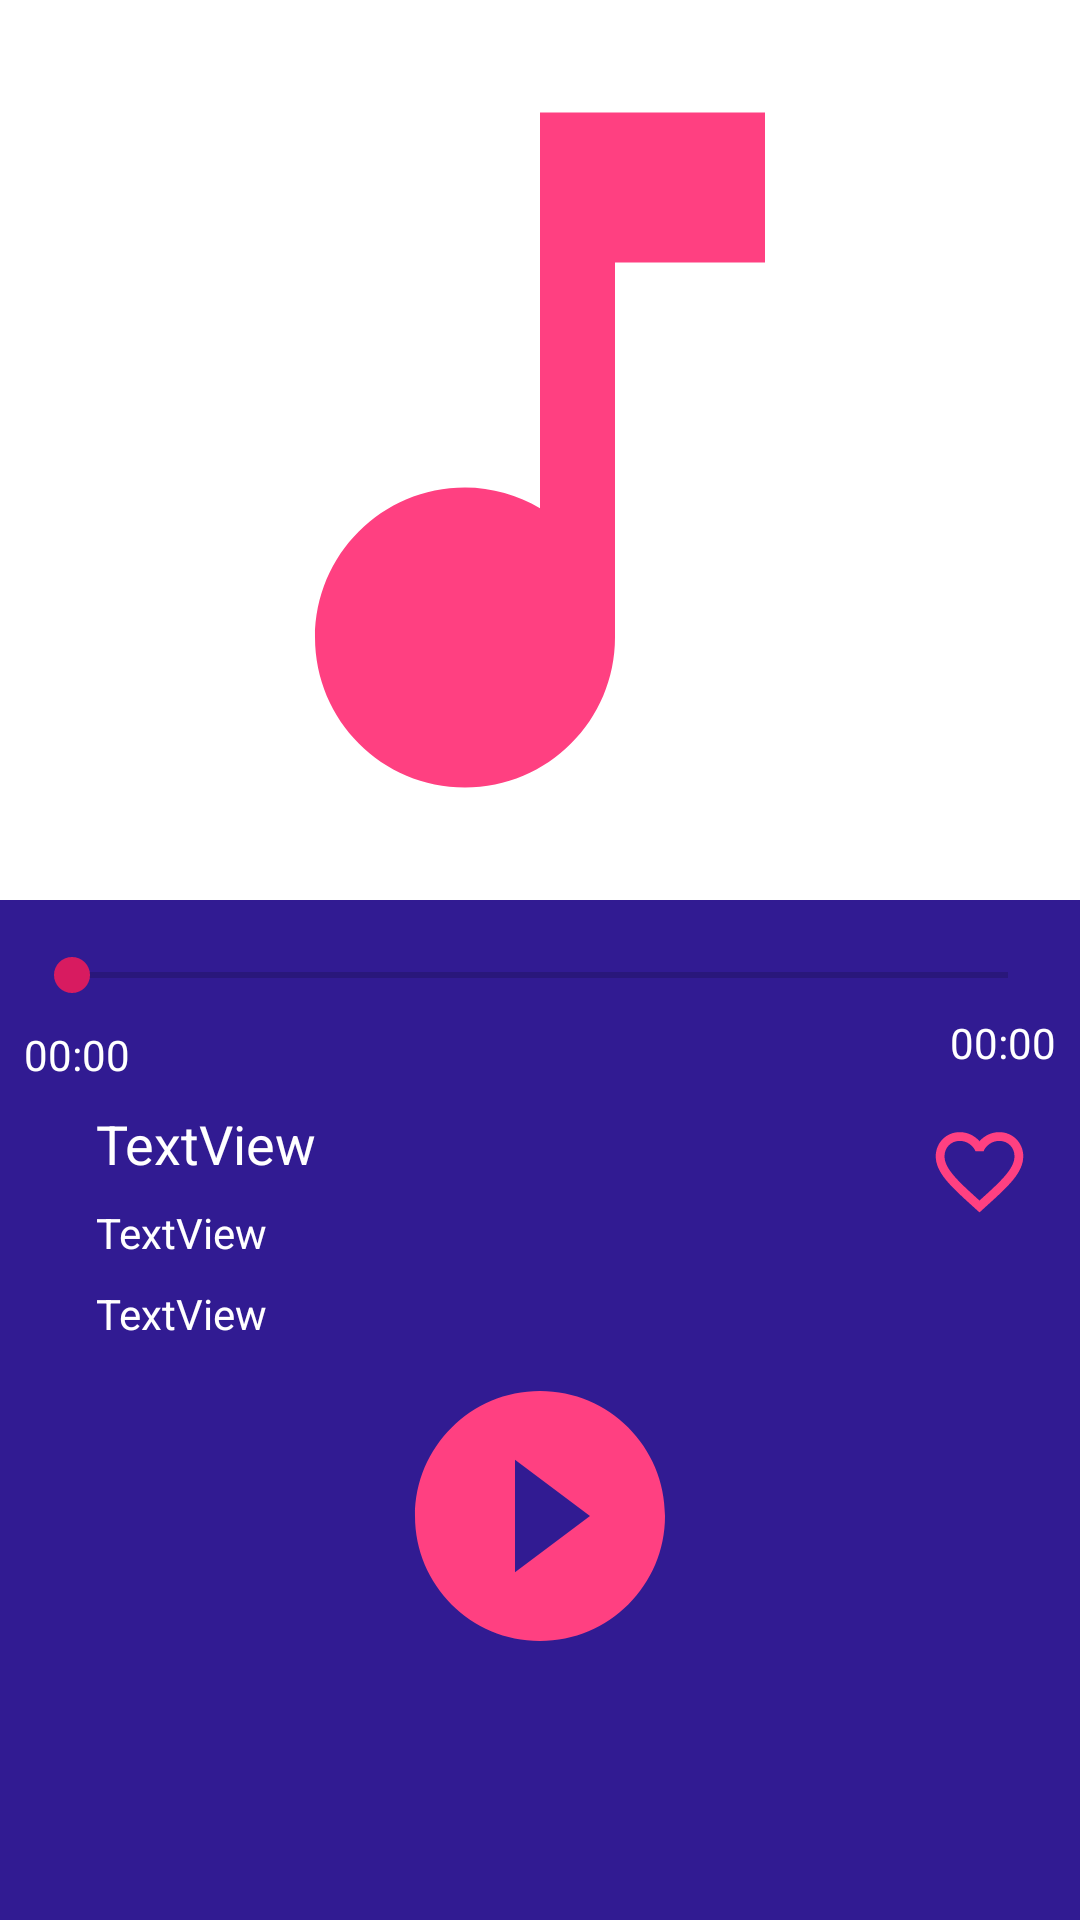

Icons on this 1080*1920 Android screen, each with the point to tap as (x,y):
fav border: (979,1172)
play mani: (540,1516)
